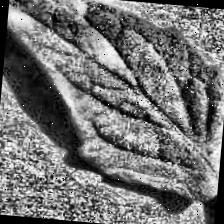leaf mold: (0, 0, 224, 192)
